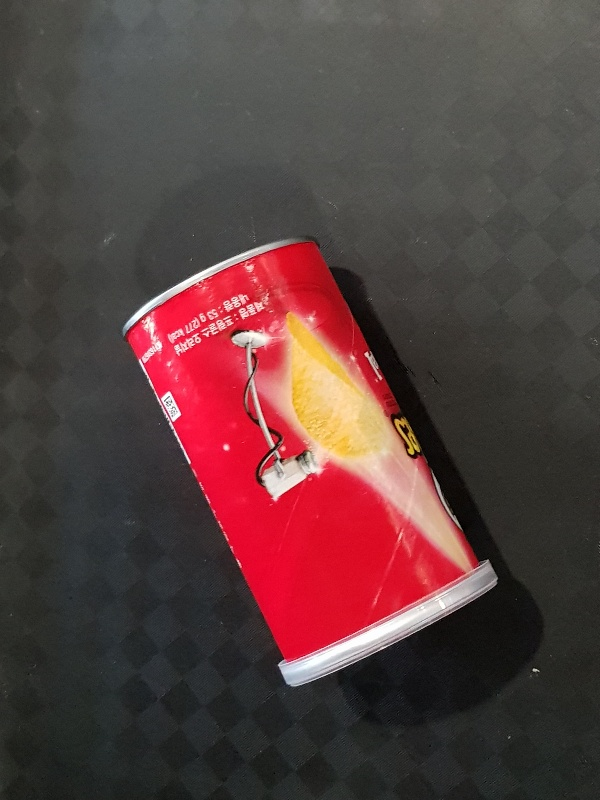Pringles Original: (119, 232, 499, 687)
